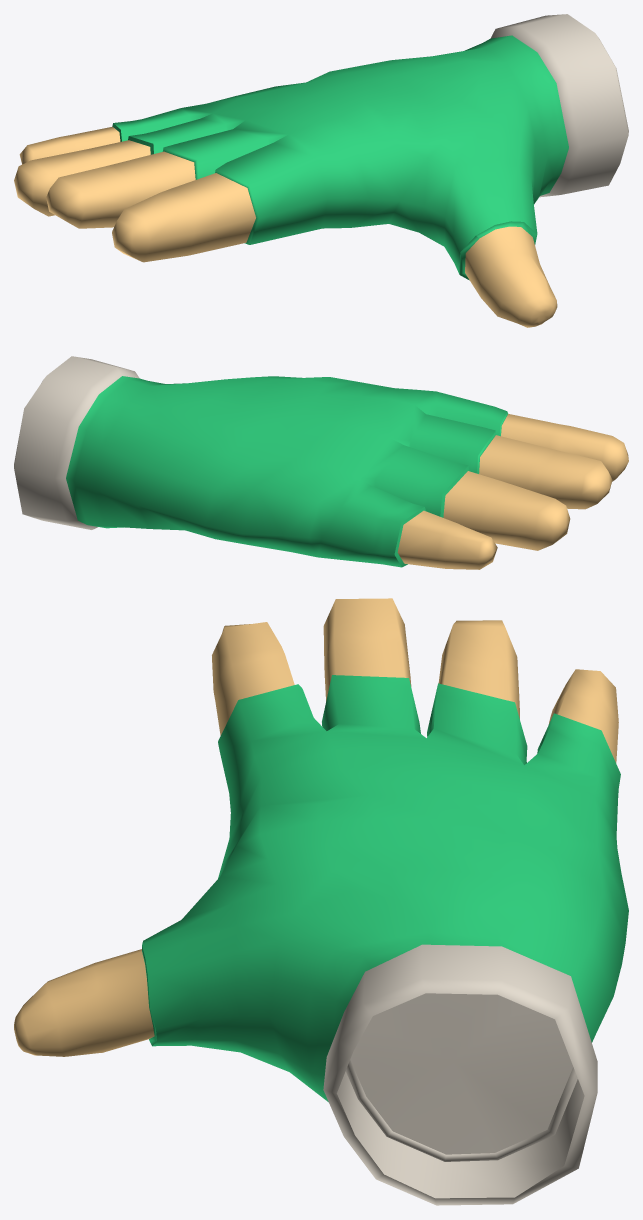
Rendered from Right_Arm_03_03.fbx.
3 renders of one model, top to bottom at view 1: azimuth 30°, elevation 25°; view 2: azimuth 150°, elevation 25°; view 3: azimuth 270°, elevation 25°, orthographic. The views are drawn at different scales.
Parts seen in each view (by area): view 1: Right_Arm_03_03; view 2: Right_Arm_03_03; view 3: Right_Arm_03_03.
Boxes of the visible parts, <box> form: Right_Arm_03_03: <box>14,14,628,327</box>; Right_Arm_03_03: <box>14,356,628,569</box>; Right_Arm_03_03: <box>14,598,628,1205</box>.
Size of the model in its own units: 26.07 by 7.21 by 16.87.
